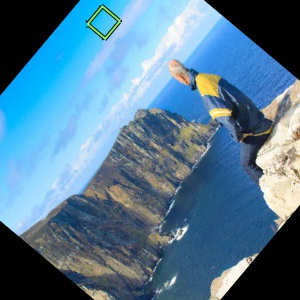square: (83, 4, 124, 41)
